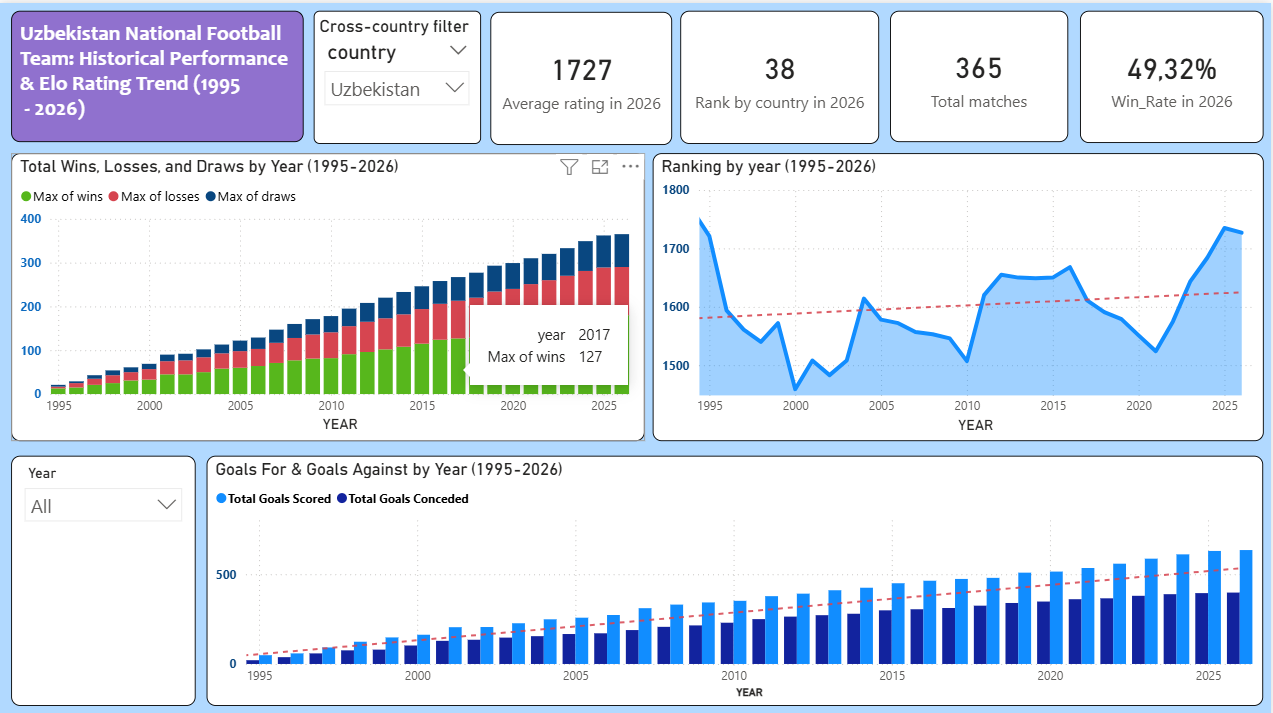

The dashboard page shown, as its layout file describes it:
{"tool":"powerbi","page":{"name":"Uzbekistan (1995 -2026)","canvas":[1280,720],"ordinal":1},"visuals":[{"type":"card","fields":{"Values":["Avg(elo_ratings_wc2026.rating)"]},"box":[494.4,8.9,183.3,134.4],"z":0},{"type":"card","fields":{"Values":["Avg(elo_ratings_wc2026.rank)"]},"box":[685.6,7.8,200,134.4],"z":1000},{"type":"slicer","title":"Cross-country filter","fields":{"Values":["elo_ratings_wc2026.country"]},"box":[316.7,7.8,168.9,134.4],"z":2000},{"type":"card","fields":{"Values":["Sum(elo_ratings_wc2026.matches_total)"]},"box":[896.7,7.8,178.9,132.2],"z":3000},{"type":"card","fields":{"Values":["elo_ratings_wc2026.Win_Rate"]},"box":[1087.5,7.5,185,133.3],"z":4000},{"type":"lineChart","title":"Ranking by year (1995-2026)","fields":{"Category":["elo_ratings_wc2026.year"],"Y":["Avg(elo_ratings_wc2026.rating)"]},"box":[657.7,150.8,614.6,290],"z":5000},{"type":"columnChart","title":"Total Wins, Losses, and Draws by Year (1995-2026)","fields":{"Category":["elo_ratings_wc2026.year"],"Y":["Max(elo_ratings_wc2026.wins)","Max(elo_ratings_wc2026.losses)","Max(elo_ratings_wc2026.draws)"]},"box":[12.2,151.1,637.8,290],"z":6000},{"type":"clusteredColumnChart","title":"Goals For & Goals Against by Year (1995-2026)","fields":{"Category":["elo_ratings_wc2026.year"],"Y":["Avg(elo_ratings_wc2026.goals_for)","Avg(elo_ratings_wc2026.goals_against)"]},"box":[208.9,455.6,1063.3,252.2],"z":7000},{"type":"textbox","box":[12.2,7.8,294.4,132.2],"z":8000},{"type":"slicer","fields":{"Values":["elo_ratings_wc2026.snapshot_date.Variation.Date Hierarchy.Year"]},"box":[12.2,455.6,185.6,252.2],"z":9000}]}

Visuals, with their boxes in screenshot pixels (x1, y1, x2, y2), scaled from the page's 1280x720 canvas onto the 1273x713 screenshot:
card - Avg(elo_ratings_wc2026.rating): [left=492, top=9, right=674, bottom=142]
card - Avg(elo_ratings_wc2026.rank): [left=682, top=8, right=881, bottom=141]
"Cross-country filter" slicer: [left=315, top=8, right=483, bottom=141]
card - Sum(elo_ratings_wc2026.matches_total): [left=892, top=8, right=1070, bottom=139]
card - elo_ratings_wc2026.Win_Rate: [left=1082, top=7, right=1266, bottom=139]
"Ranking by year (1995-2026)" lineChart: [left=654, top=149, right=1265, bottom=437]
"Total Wins, Losses, and Draws by Year (1995-2026)" columnChart: [left=12, top=150, right=646, bottom=437]
"Goals For & Goals Against by Year (1995-2026)" clusteredColumnChart: [left=208, top=451, right=1265, bottom=701]
textbox: [left=12, top=8, right=305, bottom=139]
slicer - elo_ratings_wc2026.snapshot_date.Variation.Date Hierarchy.Year: [left=12, top=451, right=197, bottom=701]
